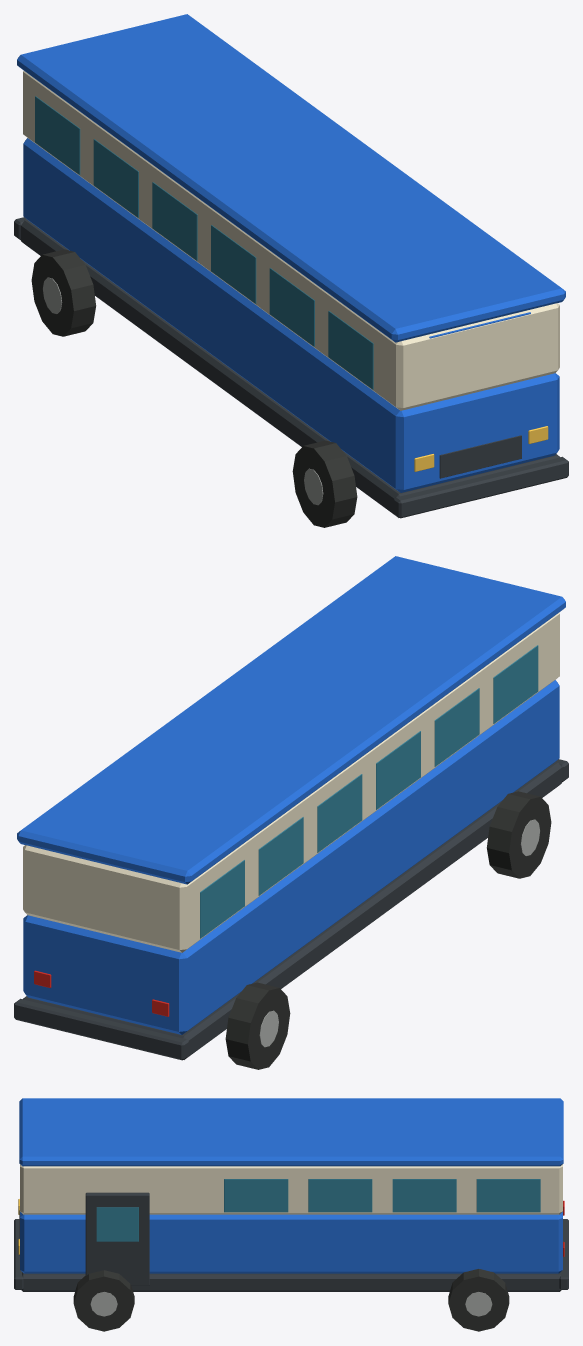
The model's file is BlueBus.glb.
The picture shows the model from 3 angles, top to bottom: view 1: azimuth 30°, elevation 25°; view 2: azimuth 150°, elevation 25°; view 3: azimuth 270°, elevation 25°; orthographic projection. The views are drawn at different scales.
Parts seen in each view (by area): view 1: FTF_Vehicle_TeamBus_Blue_10m_Mesh; view 2: FTF_Vehicle_TeamBus_Blue_10m_Mesh; view 3: FTF_Vehicle_TeamBus_Blue_10m_Mesh.
Part boxes in pixels (<box>): FTF_Vehicle_TeamBus_Blue_10m_Mesh: <box>14,14,568,527</box>; FTF_Vehicle_TeamBus_Blue_10m_Mesh: <box>14,556,568,1069</box>; FTF_Vehicle_TeamBus_Blue_10m_Mesh: <box>14,1098,568,1331</box>.
Size of the model in its own units: 3.32 by 3.38 by 10.22.
